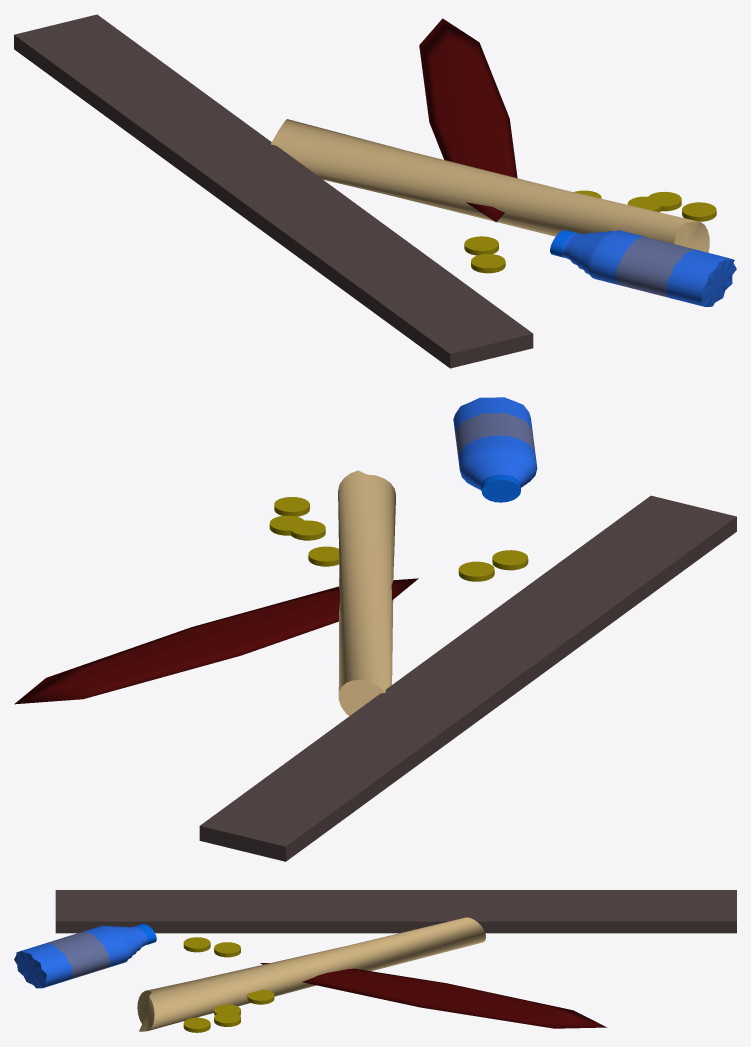
Rendered from sm_debris_2.fbx.
The picture shows the model from 3 angles, top to bottom: view 1: azimuth 30°, elevation 25°; view 2: azimuth 150°, elevation 25°; view 3: azimuth 270°, elevation 25°; orthographic projection. The views are drawn at different scales.
Visible parts, largest first — view 1: polySurface575; view 2: polySurface575; view 3: polySurface575.
Boxes of the visible parts, left/top/right/bottom form: polySurface575: left=14, top=14, right=736, bottom=368; polySurface575: left=14, top=397, right=736, bottom=861; polySurface575: left=14, top=890, right=736, bottom=1032.
Size of the model in its own units: 81.54 by 17.23 by 184.
